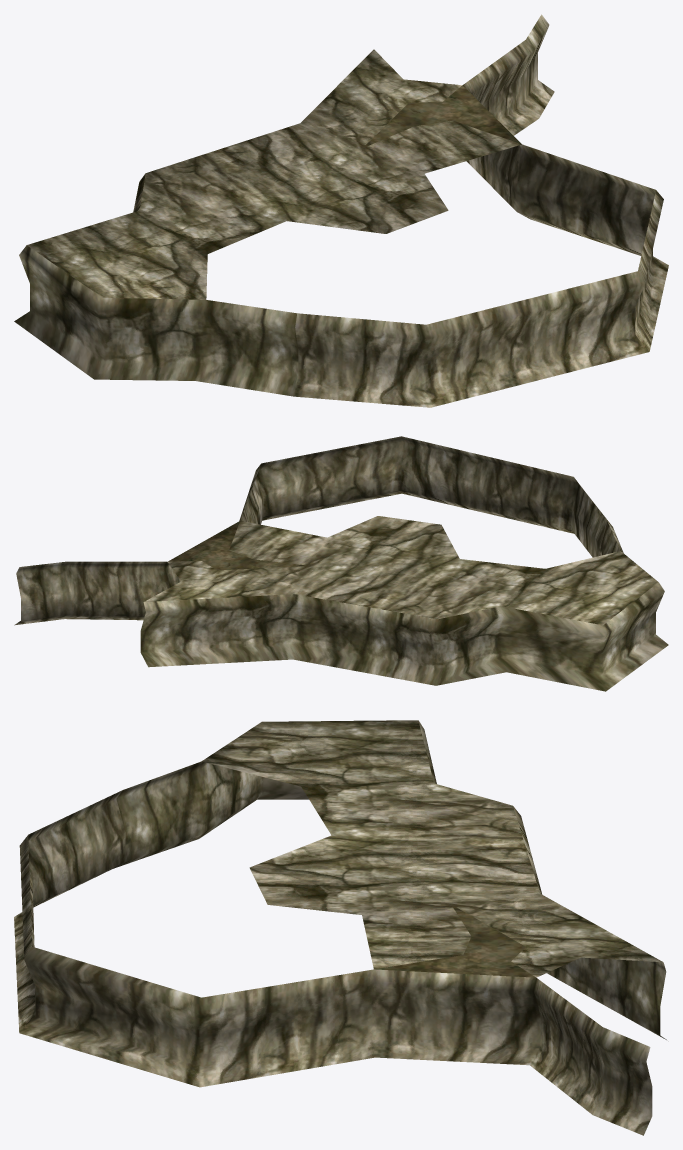
File: CB_NEWPLAYSURFACE_CB_PLAYSURFACE129.fbx
3 views of the same model, one above another, from view 1: azimuth 30°, elevation 25°; view 2: azimuth 150°, elevation 25°; view 3: azimuth 270°, elevation 25° (orthographic). The views are drawn at different scales.
Visible parts, largest first — view 1: CB_NEWPLAYSURFACE_CB_PLAYSURFACE129; view 2: CB_NEWPLAYSURFACE_CB_PLAYSURFACE129; view 3: CB_NEWPLAYSURFACE_CB_PLAYSURFACE129.
Part boxes in pixels (box(x1,y1,x2,y2)): CB_NEWPLAYSURFACE_CB_PLAYSURFACE129: box(14, 14, 668, 407); CB_NEWPLAYSURFACE_CB_PLAYSURFACE129: box(14, 436, 668, 691); CB_NEWPLAYSURFACE_CB_PLAYSURFACE129: box(14, 720, 666, 1135).
Size of the model in its own units: 255230 by 29558 by 210058.
3 materials, 3 textured.
